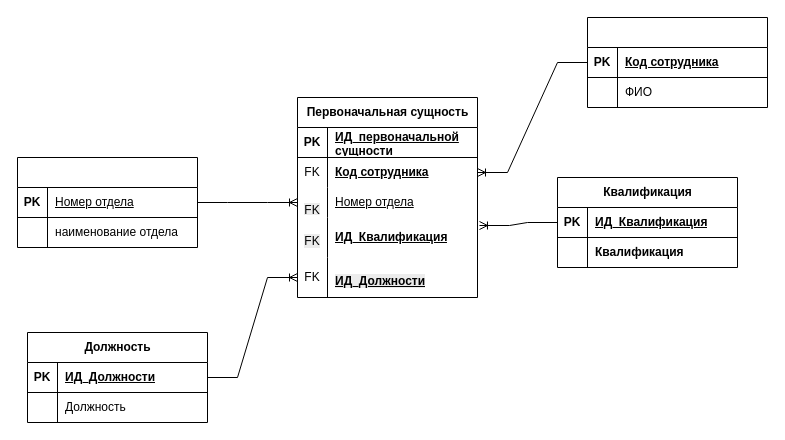
Some shapes in this 785 by 440 pixel diagram are drawn without their labels. The box of each missing label's shape, as (x1, y1, x2, y2) in pixels:
Информация об отделе: (16, 156, 198, 248)
Личные данные работника: (586, 16, 768, 108)
